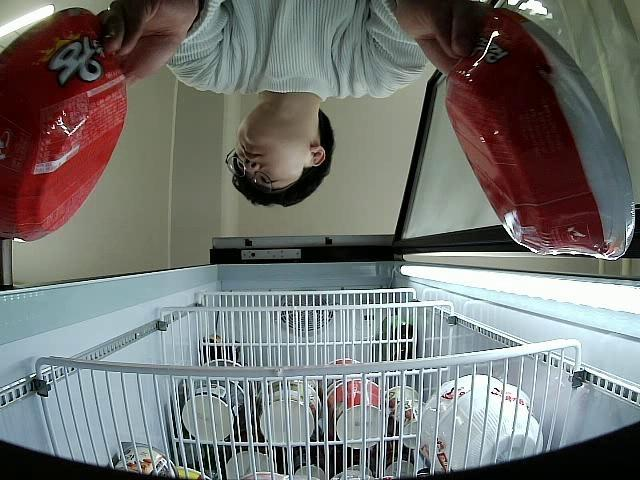10_wangTtukkeong: (446, 6, 634, 263), (0, 5, 127, 246)
